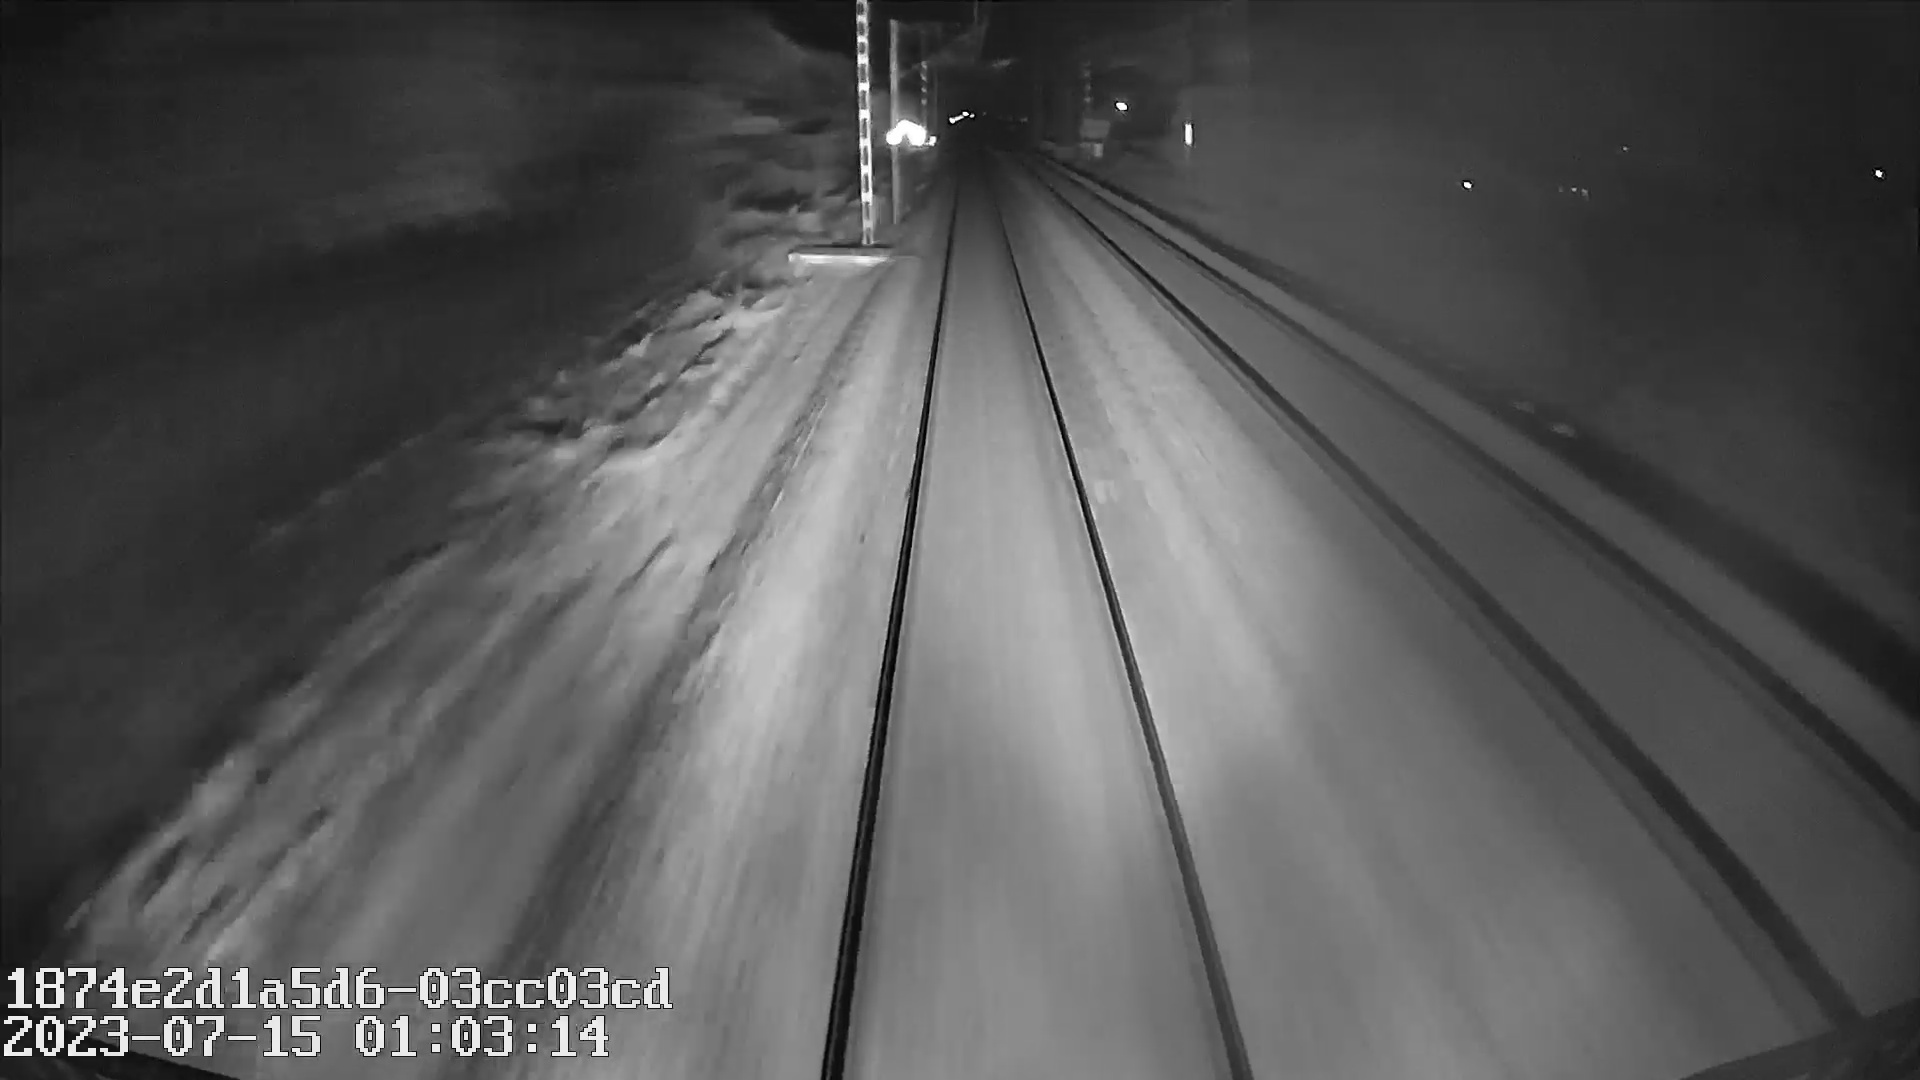track1: (833, 207, 1231, 1056)
track2: (1058, 190, 1909, 971)
